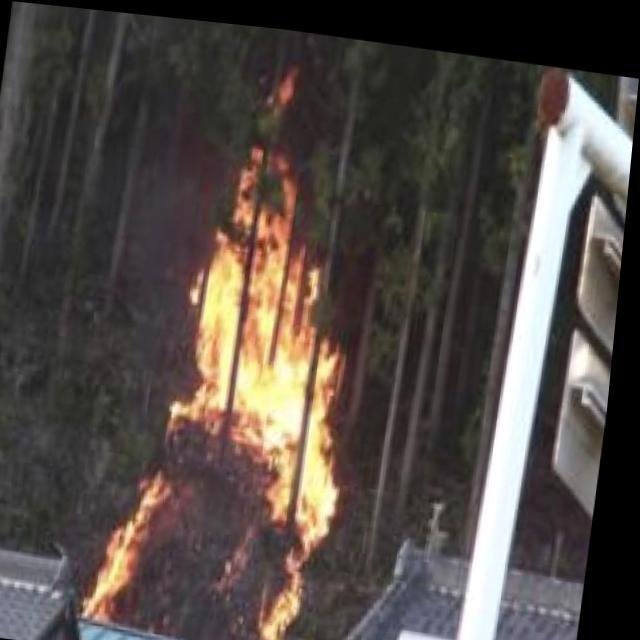fire: (97, 135, 378, 640)
